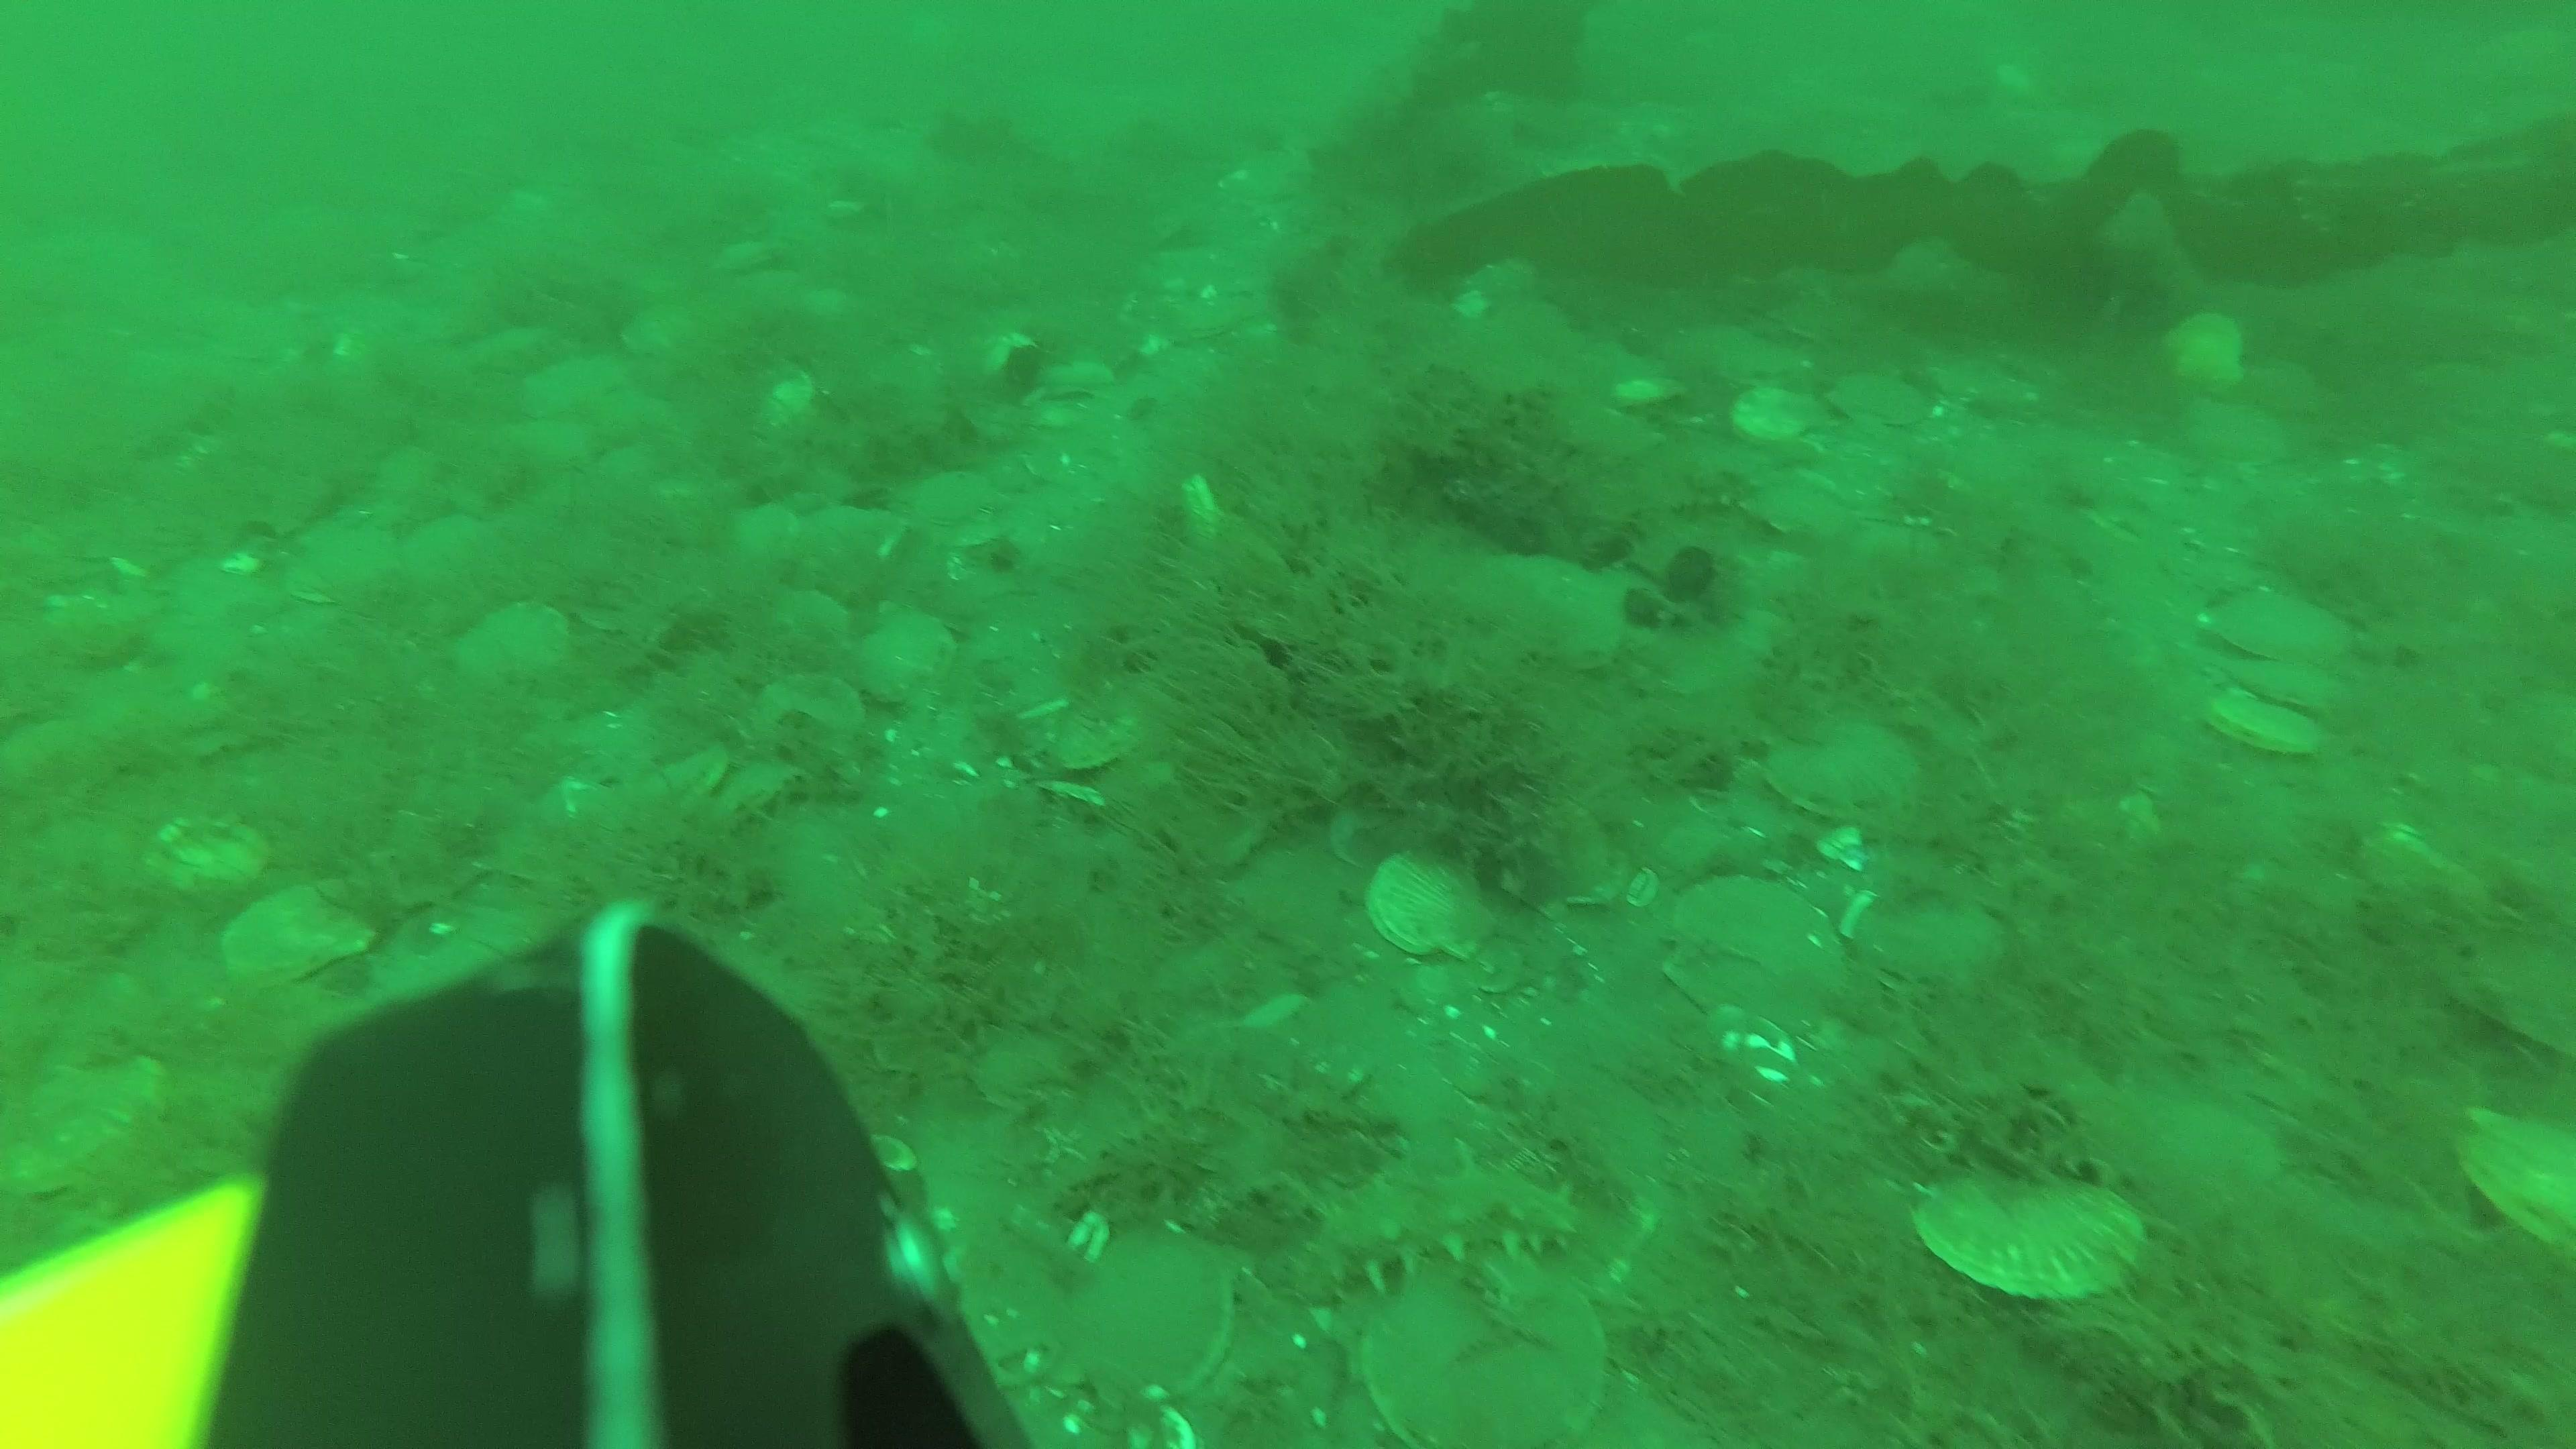holothurian: (1293, 1148, 1587, 1292)
scallop: (1380, 1254, 1608, 1449), (1051, 1214, 1237, 1405), (1925, 1171, 2132, 1315), (1672, 883, 1854, 1035), (2082, 1083, 2270, 1219), (2459, 1090, 2576, 1276), (1453, 545, 1619, 671), (1766, 706, 1928, 830), (14, 1065, 172, 1187), (1366, 842, 1499, 968), (235, 878, 370, 994), (1863, 892, 2012, 989), (1479, 791, 1601, 908), (2190, 573, 2337, 665), (456, 600, 584, 697), (290, 511, 400, 616), (752, 676, 865, 775), (156, 814, 267, 902), (858, 607, 959, 699), (2212, 690, 2328, 766), (2226, 649, 2342, 720), (1824, 357, 1923, 433), (2166, 306, 2254, 389), (1053, 702, 1146, 770), (1737, 380, 1826, 448)
